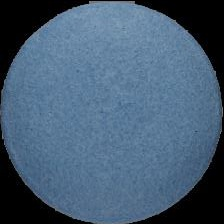55289-205: (0, 0, 224, 224)
